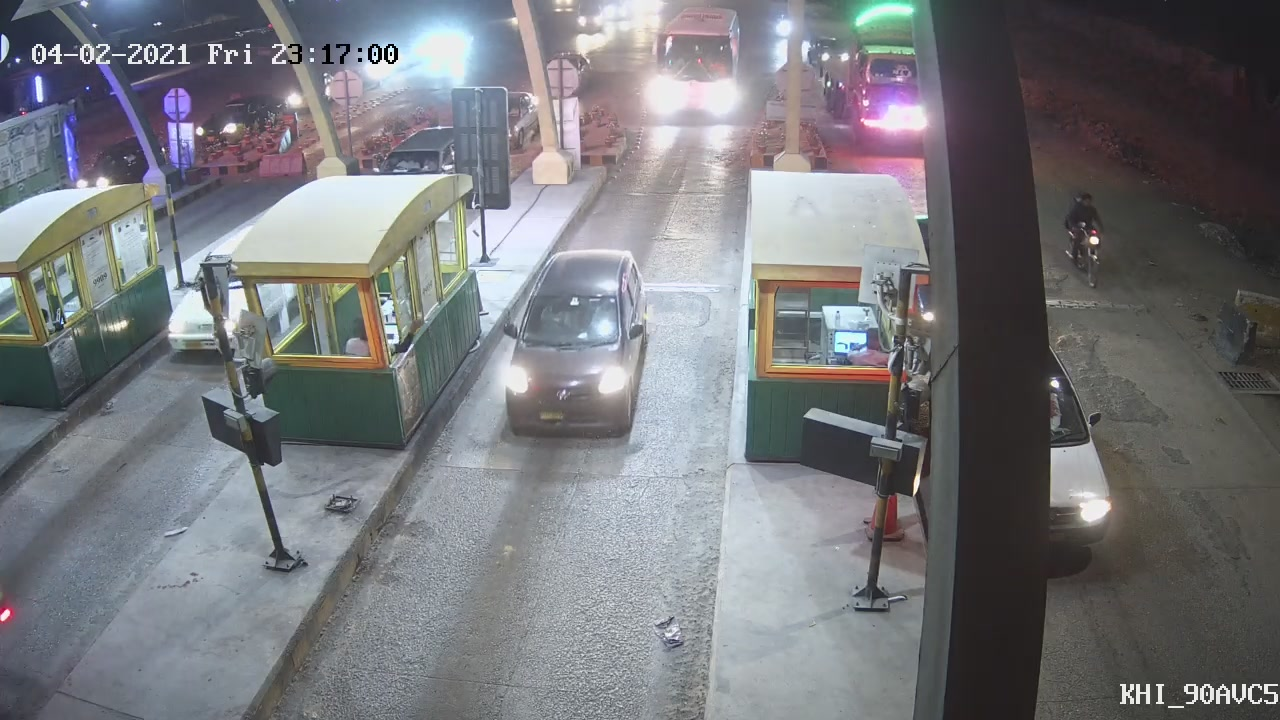F1: (494, 242, 660, 446)
